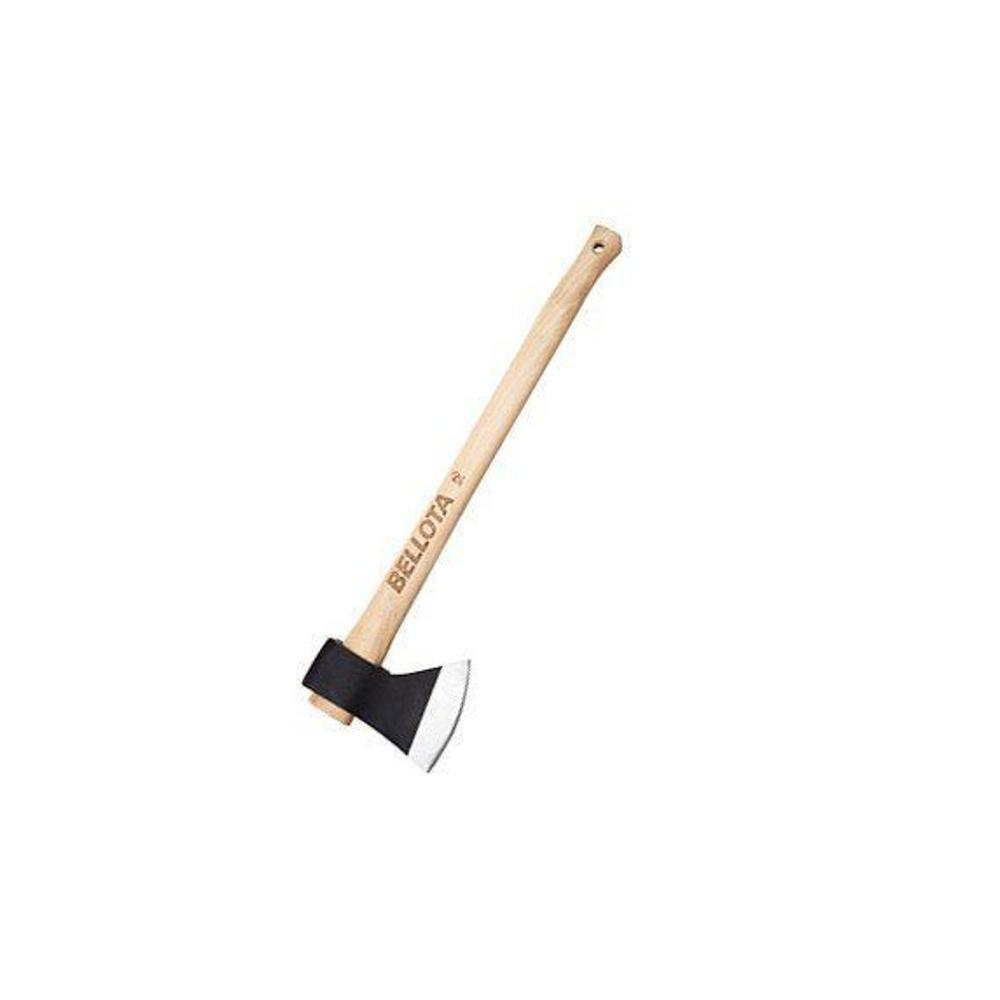machado: (302, 225, 621, 772)
